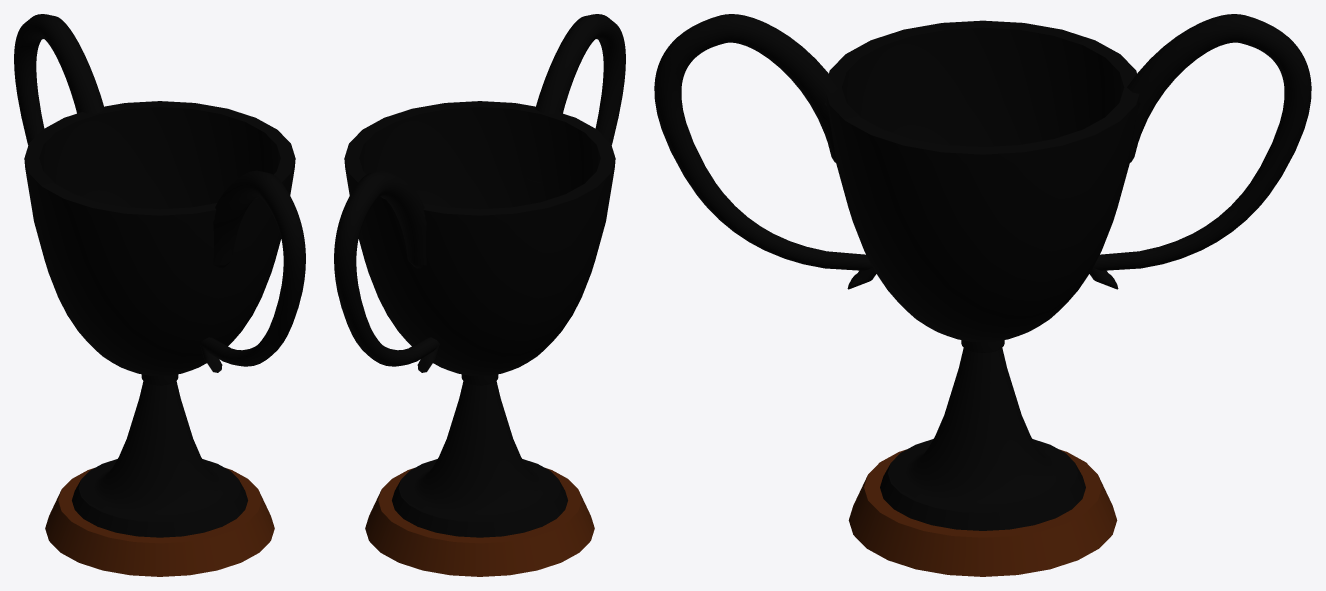
File: WinnerCup.fbx
3 renders of one model, left to right at view 1: azimuth 30°, elevation 25°; view 2: azimuth 150°, elevation 25°; view 3: azimuth 270°, elevation 25°, orthographic. The views are drawn at different scales.
Visible parts, largest first — view 1: Base, Handle, Handle_2; view 2: Base, Handle_2, Handle; view 3: Base, Handle, Handle_2.
Part boxes in pixels (bbox=[...]): Base: bbox=[24, 101, 295, 576]; Handle: bbox=[200, 170, 305, 372]; Handle_2: bbox=[14, 14, 110, 182]; Base: bbox=[344, 101, 615, 576]; Handle_2: bbox=[334, 170, 439, 372]; Handle: bbox=[529, 14, 625, 182]; Base: bbox=[826, 20, 1139, 576]; Handle: bbox=[654, 14, 876, 289]; Handle_2: bbox=[1089, 14, 1311, 289].
Size of the model in its own units: 200 by 352 by 414.
